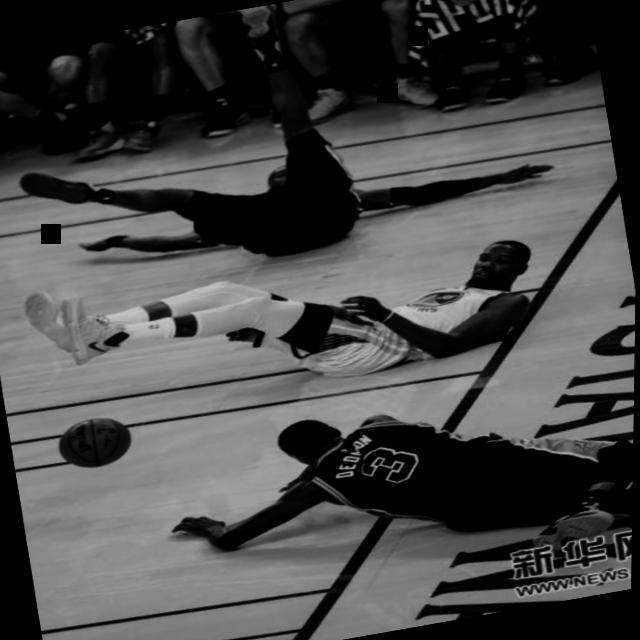Fall-Detected: (56, 214, 559, 436)
